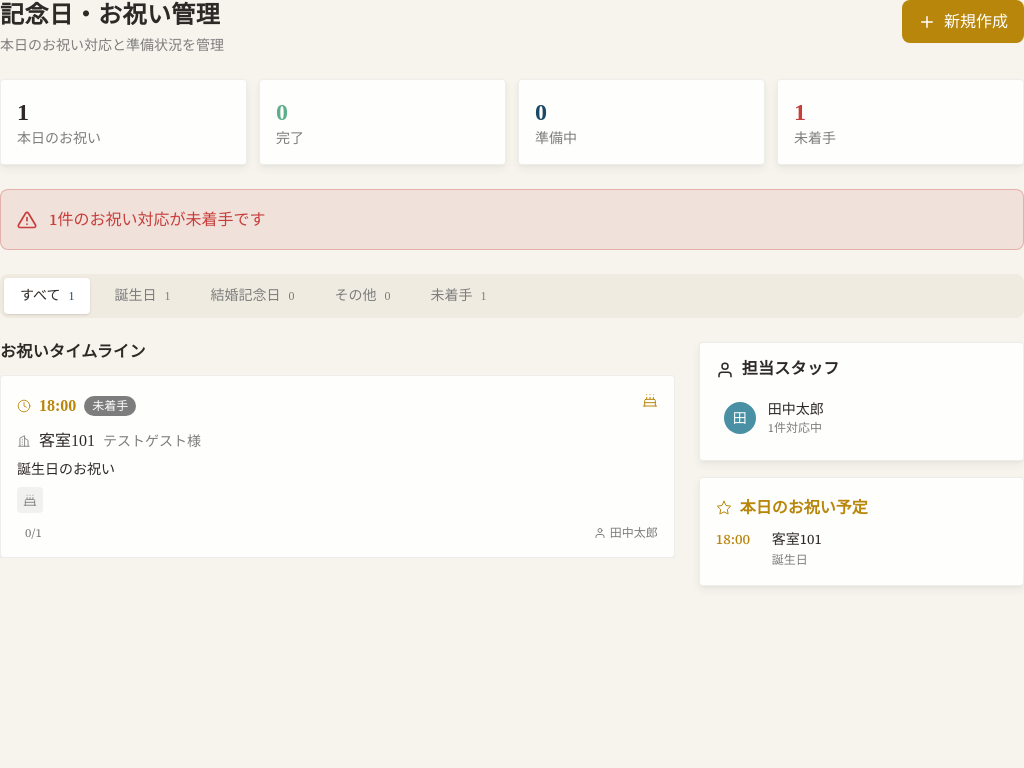
Test: CelebrationManagement担当者変更 › タスク詳細モーダル内でStaffSelectorが表示される
タスクカードをクリックしてモーダルを開く
Click the text "テストゲスト様" at (152, 441), box left=103, top=431, right=201, bottom=451
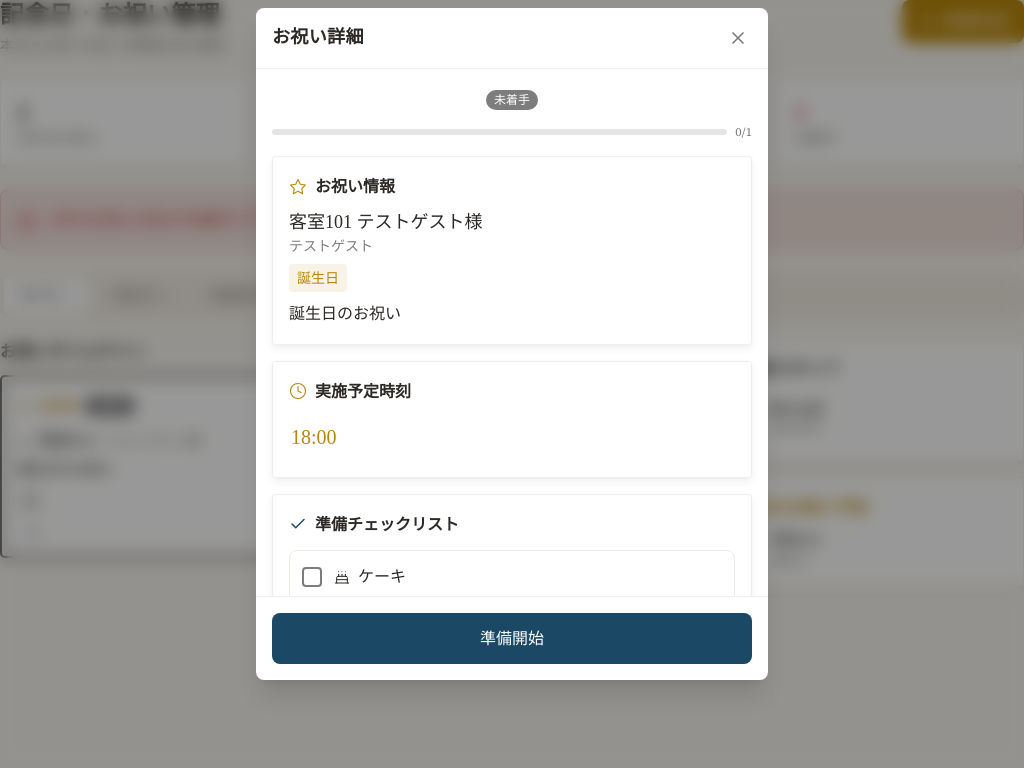
Expected: the heading "お祝い詳細" is shown, left=272, top=26, right=364, bottom=50
